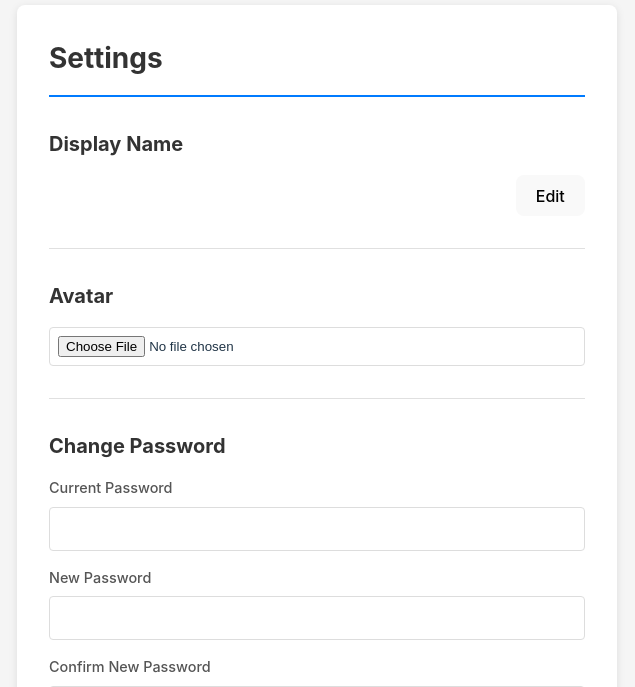
Test case: UserConfigurationPage › 12.4.1: Display name inline editor with uniqueness error › should show uniqueness error on 409 response
The image size is (635, 687).
Click the button "Edit" at (550, 196), box left=516, top=175, right=585, bottom=216
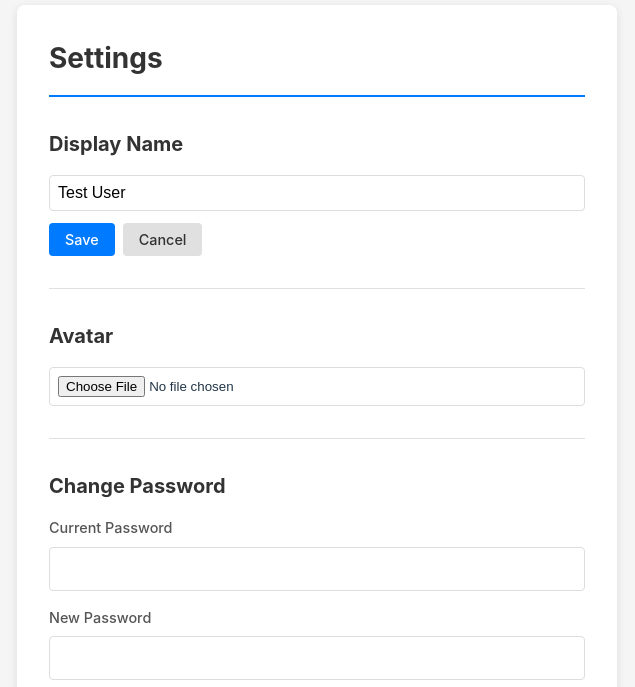
Replace the text in the field showing "Test User" with "Taken Name" at (317, 193), box left=49, top=175, right=585, bottom=211
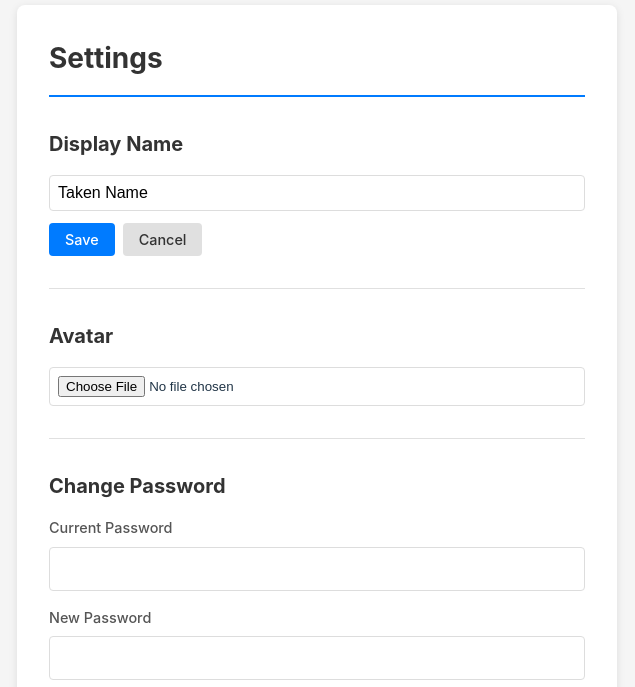
Click the button "Save" at (82, 240), box left=49, top=223, right=115, bottom=256
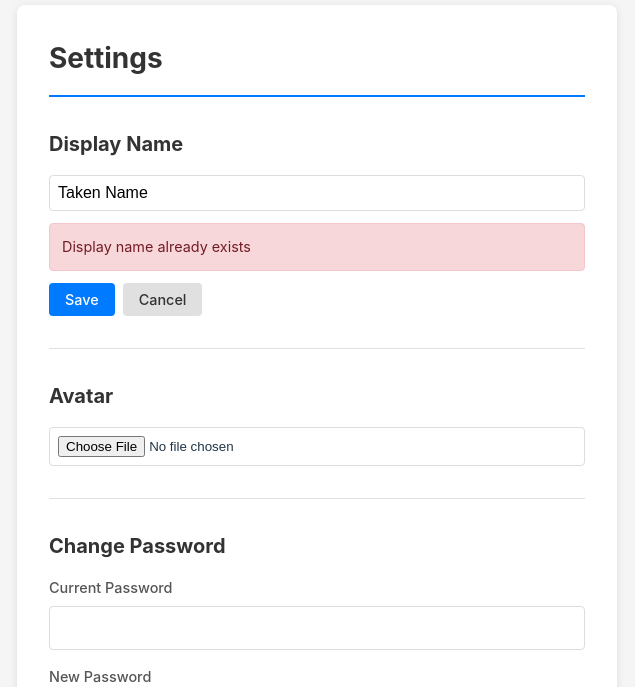
Expected: the text "Display name already exists" is shown, left=49, top=223, right=585, bottom=271
